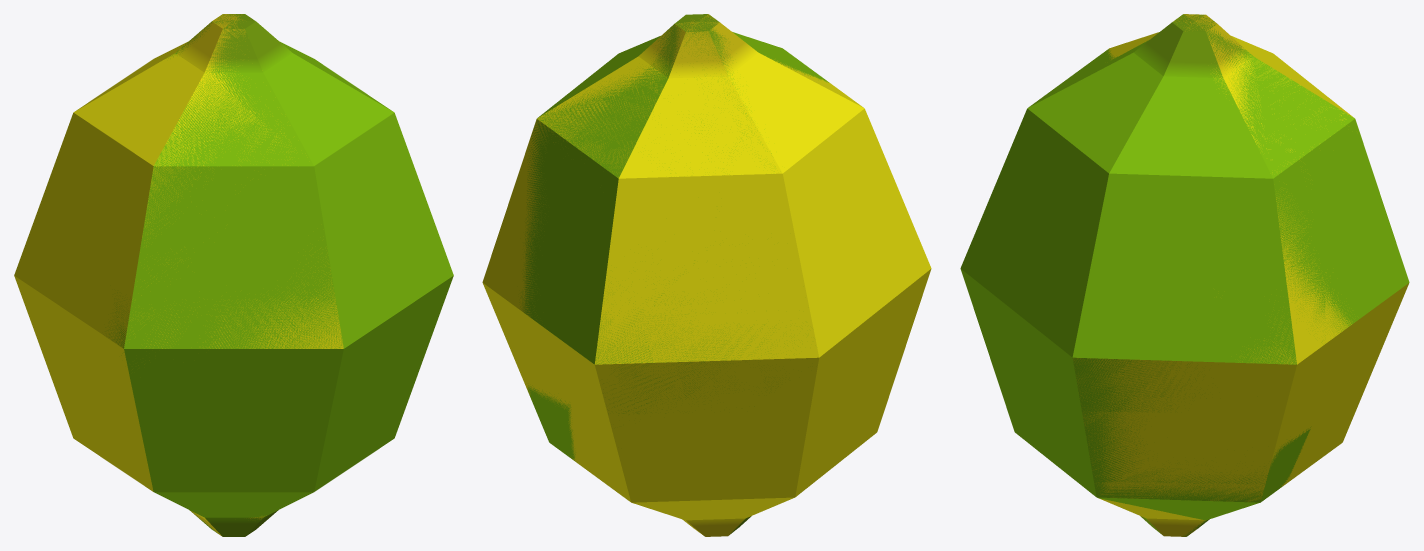
The model's file is Lemon.fbx.
3 renders of one model, left to right at view 1: azimuth 30°, elevation 25°; view 2: azimuth 150°, elevation 25°; view 3: azimuth 270°, elevation 25°, orthographic. The views are drawn at different scales.
Parts seen in each view (by area): view 1: Lemon_Green_All, Lemon_Yellow_All, Lemon_Green_Piece; view 2: Lemon_Yellow_All, Lemon_Green_All, Lemon_Yellow_Piece; view 3: Lemon_Green_All, Lemon_Yellow_Piece, Lemon_Green_Piece, Lemon_Yellow_All.
Boxes of the visible parts, <box> form: Lemon_Green_All: <box>105,14,453,536</box>; Lemon_Yellow_All: <box>14,14,343,535</box>; Lemon_Green_Piece: <box>125,276,453,536</box>; Lemon_Yellow_All: <box>482,14,931,536</box>; Lemon_Green_All: <box>519,14,828,525</box>; Lemon_Yellow_Piece: <box>483,283,703,535</box>; Lemon_Green_All: <box>960,14,1409,536</box>; Lemon_Yellow_Piece: <box>1073,283,1408,536</box>; Lemon_Green_Piece: <box>960,268,1267,534</box>; Lemon_Yellow_All: <box>1107,14,1353,487</box>.
Bounding box in the file's own units: 4.86 × 7.09 × 5.61.
